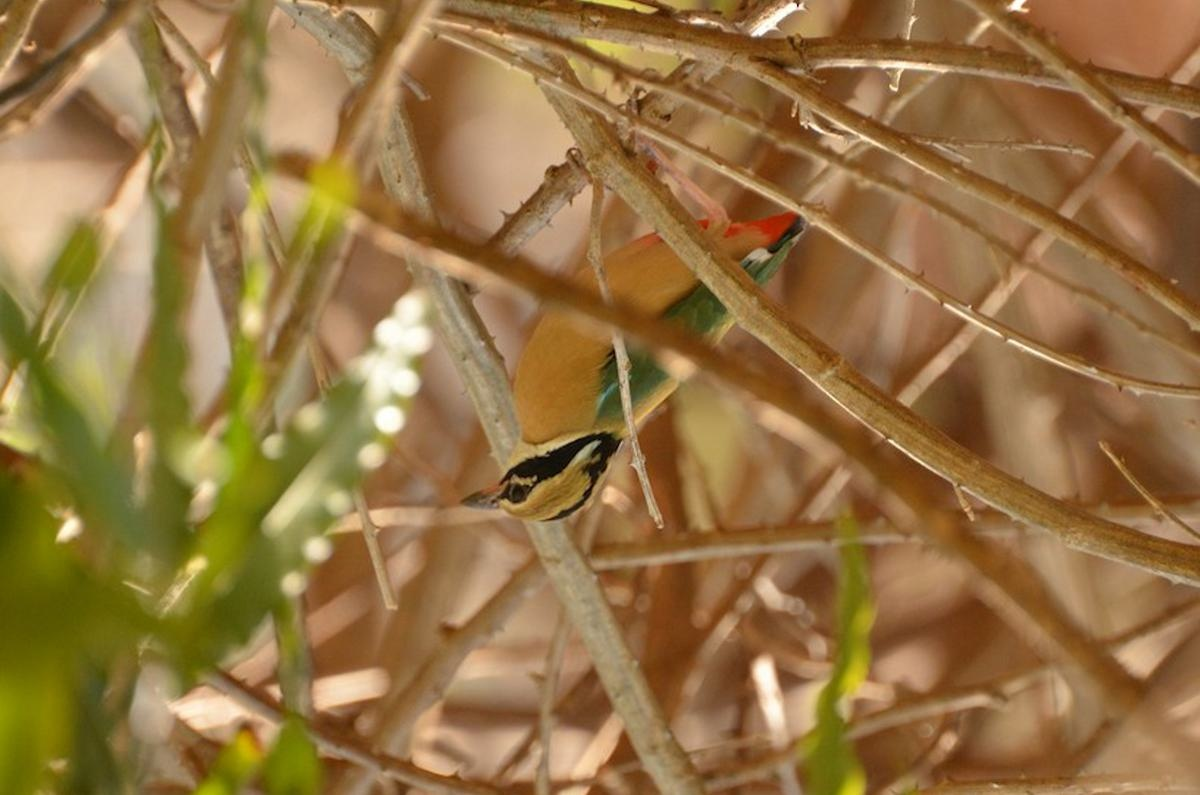pitta: (438, 189, 786, 532)
